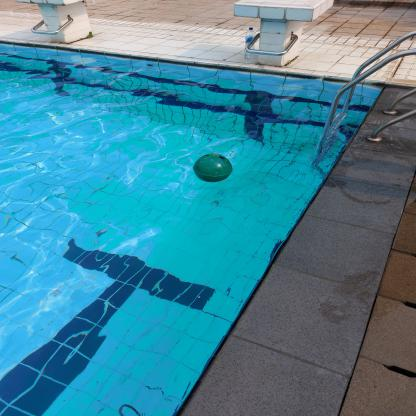green_buoy: (191, 152, 236, 184)
